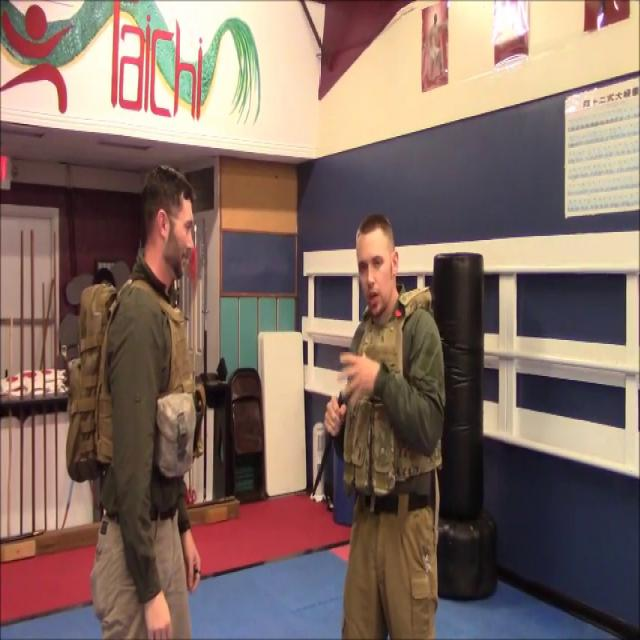knife: (298, 378, 353, 497)
